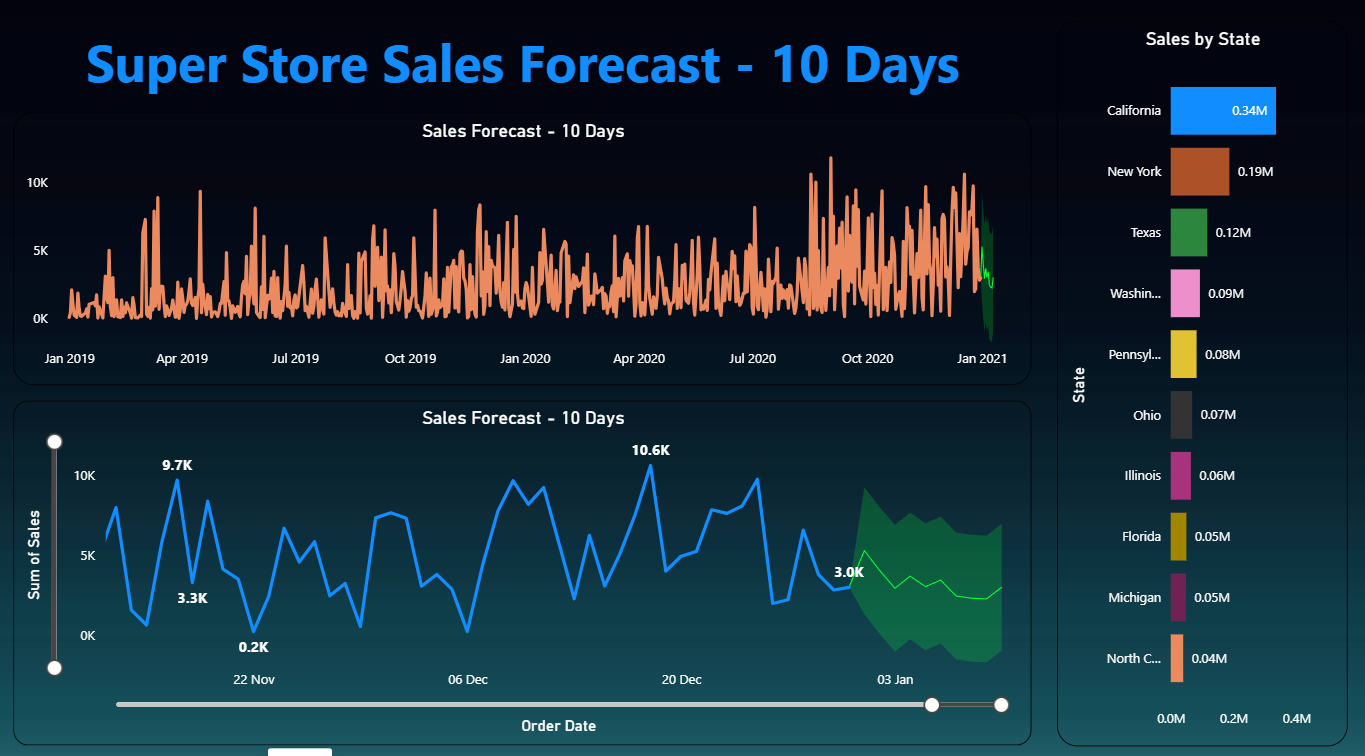

This screenshot's page, from the dashboard's own definition file:
{"tool":"powerbi","page":{"name":"Page 2","canvas":[1280,720],"ordinal":1},"visuals":[{"type":"lineChart","title":"Sales Forecast - 10 Days ","fields":{"Y":["Sum(SuperStore_Sales_Dataset.Sales)"],"Category":["SuperStore_Sales_Dataset.Order Date"]},"box":[15.6,105.7,947.6,254.6],"z":0},{"type":"lineChart","title":"Sales Forecast - 10 Days ","fields":{"Y":["Sum(SuperStore_Sales_Dataset.Sales)"],"Category":["SuperStore_Sales_Dataset.Order Date"]},"box":[15.6,374.7,947.6,320.7],"z":1000},{"type":"textbox","box":[15.6,20.4,947.6,74.5],"z":2000},{"type":"clusteredBarChart","title":"Sales by State","fields":{"Y":["Sum(SuperStore_Sales_Dataset.Sales)"],"Category":["SuperStore_Sales_Dataset.State"]},"box":[986,20.4,270.2,675],"z":3000}]}

Visuals, with their boxes in screenshot pixels (x1, y1, x2, y2), scaled from the page's 1280x720 canvas onto the 1365x756 screenshot:
"Sales Forecast - 10 Days " lineChart: box=[17, 111, 1027, 378]
"Sales Forecast - 10 Days " lineChart: box=[17, 393, 1027, 730]
textbox: box=[17, 21, 1027, 100]
"Sales by State" clusteredBarChart: box=[1051, 21, 1340, 730]
